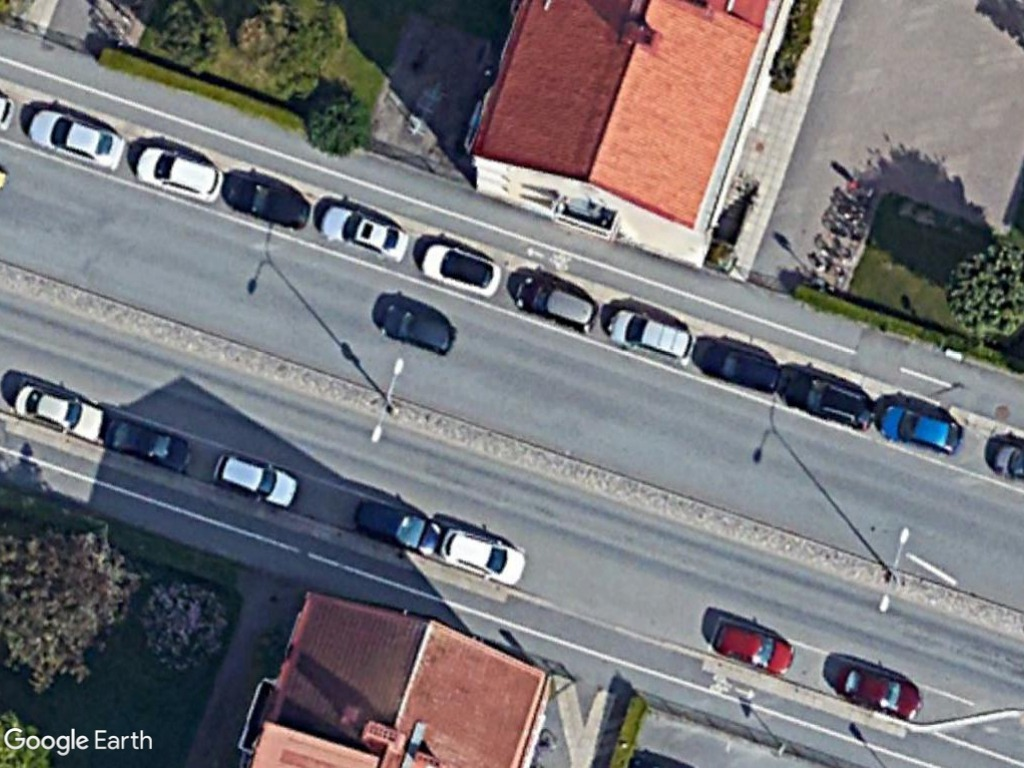car: (24, 103, 131, 176), (778, 363, 882, 435), (831, 656, 933, 727), (10, 376, 108, 449), (707, 610, 801, 684), (349, 491, 448, 561), (602, 302, 702, 371), (314, 200, 414, 269), (206, 445, 302, 515), (130, 137, 226, 207), (510, 269, 605, 339), (434, 522, 530, 591), (417, 233, 510, 303), (870, 396, 969, 461), (697, 333, 788, 402), (104, 408, 199, 472), (226, 171, 316, 236), (375, 300, 461, 361)
